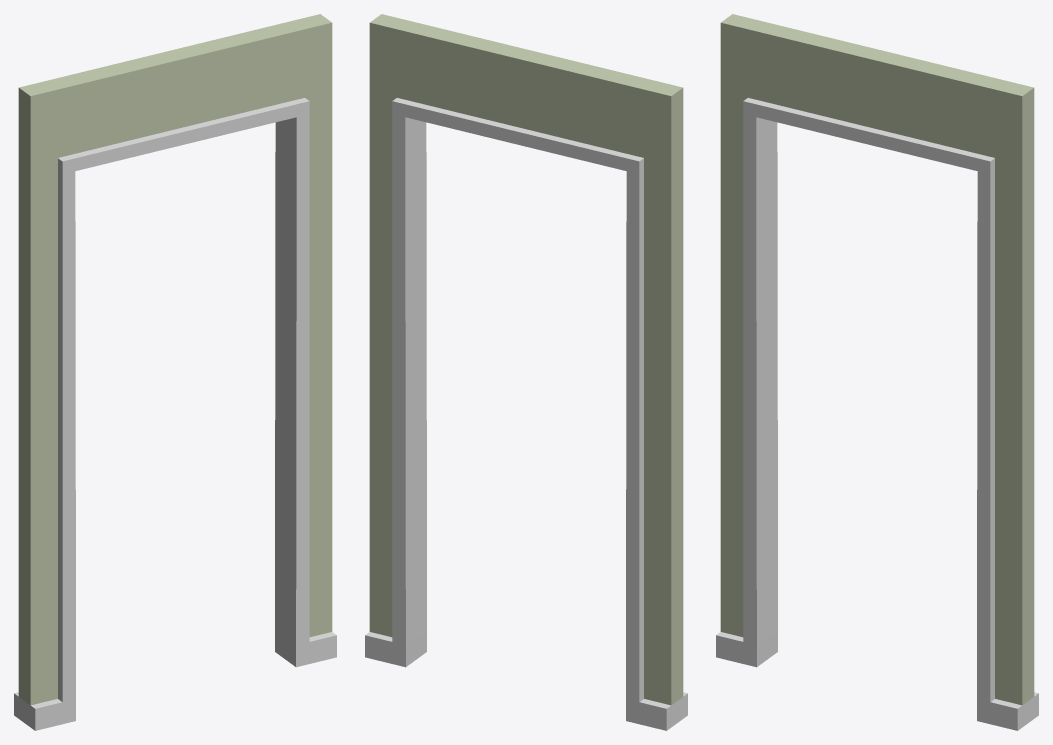
Rendered from MODdoor.fbx.
3 renders of one model, left to right at view 1: azimuth 30°, elevation 25°; view 2: azimuth 150°, elevation 25°; view 3: azimuth 330°, elevation 25°, orthographic.
Parts seen in each view (by area): view 1: Cube; view 2: Cube; view 3: Cube.
Boxes of the visible parts, <box> form: Cube: <box>14,14,336,730</box>; Cube: <box>365,14,687,730</box>; Cube: <box>716,14,1038,730</box>.
Bounding box in the file's own units: 200 × 400 × 24.34.
